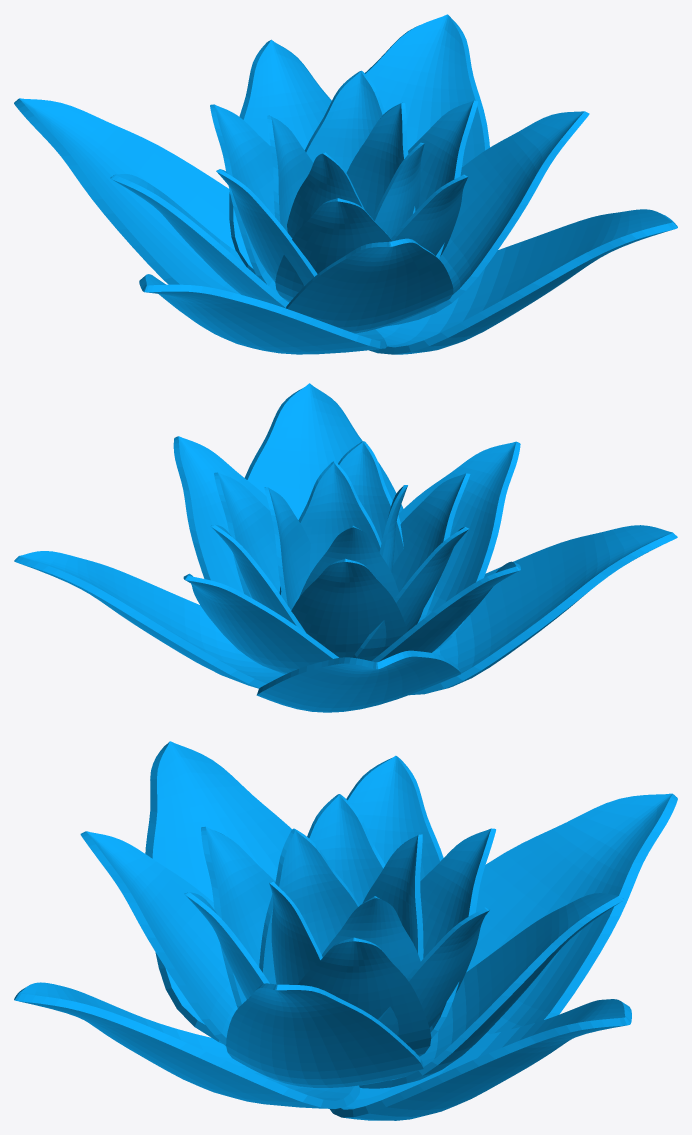
File: BLUELOTUS.fbx
3 views of the same model, one above another, from view 1: azimuth 30°, elevation 25°; view 2: azimuth 150°, elevation 25°; view 3: azimuth 270°, elevation 25° (orthographic). The views are drawn at different scales.
Visible parts, largest first — view 1: Plane.004, Plane.002, Plane.010, Plane.007, Plane, Plane.003, Plane.009, Plane.015, Plane.013, Plane.008, Plane.012, Plane.018 (+6 smaller); view 2: Plane.003, Plane, Plane.002, Plane.004, Plane.007, Plane.013, Plane.009, Plane.010, Plane.017, Plane.015, Plane.011, Plane.008 (+6 smaller); view 3: Plane.004, Plane.010, Plane.003, Plane.007, Plane.002, Plane, Plane.009, Plane.011, Plane.020, Plane.008, Plane.015, Plane.013 (+6 smaller).
Boxes of the visible parts, x1,y1,x2,y2 form: Plane.004: [14, 98, 240, 294]; Plane.002: [369, 209, 677, 354]; Plane.010: [385, 111, 589, 326]; Plane.007: [286, 238, 453, 333]; Plane: [365, 14, 489, 166]; Plane.003: [139, 274, 386, 354]; Plane.009: [229, 39, 331, 274]; Plane.015: [275, 198, 392, 302]; Plane.013: [210, 104, 288, 302]; Plane.008: [110, 174, 288, 308]; Plane.012: [304, 70, 384, 172]; Plane.018: [346, 102, 415, 218]; Plane.003: [409, 525, 677, 695]; Plane: [14, 551, 284, 688]; Plane.002: [244, 383, 403, 519]; Plane.004: [256, 650, 460, 712]; Plane.007: [398, 441, 520, 650]; Plane.013: [291, 558, 407, 657]; Plane.009: [183, 573, 338, 674]; Plane.010: [173, 436, 269, 593]; Plane.017: [279, 461, 381, 596]; Plane.015: [392, 473, 470, 626]; Plane.011: [214, 472, 280, 598]; Plane.008: [371, 561, 520, 662]; Plane.004: [466, 793, 677, 1035]; Plane.010: [226, 983, 423, 1087]; Plane.003: [145, 741, 291, 1044]; Plane.007: [80, 831, 237, 1045]; Plane.002: [14, 982, 360, 1108]; Plane: [330, 999, 631, 1120]; Plane.009: [359, 893, 624, 1088]; Plane.011: [297, 937, 431, 1056]; Plane.020: [259, 828, 359, 984]; Plane.008: [346, 755, 443, 880]; Plane.015: [201, 826, 275, 1008]; Plane.013: [420, 828, 495, 1038].
Bounding box in the file's own units: 504 × 185 × 503.
